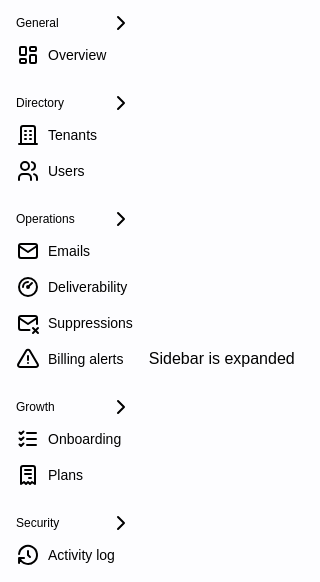
Scenario: NavMain › folds a section when its label is pressed, and unfolds it again
Click the button "Operations". click: (74, 219)
box: [8,203,141,235]
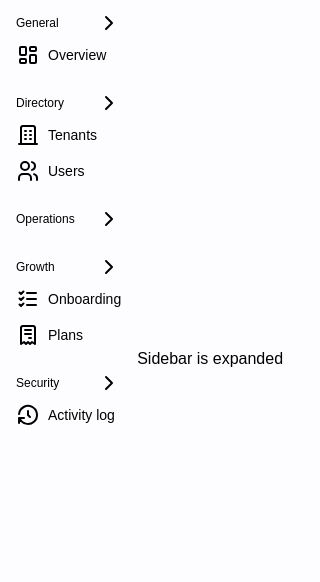
expect the button "Operations" is collapsed: met
expect the link "Emails" is gone: met
expect the link "Suppressions" is gone: met
Click the button "Operations". click: (69, 219)
box: [8,203,129,235]
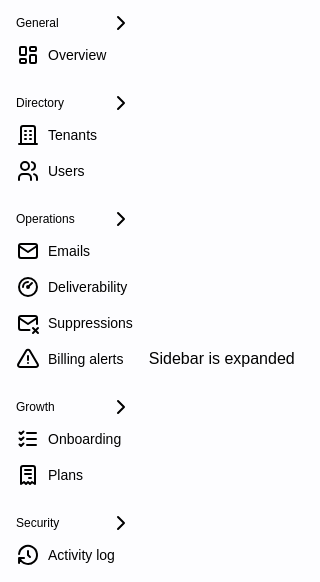
expect the button "Operations" is expanded: met, box [8,203,141,235]
